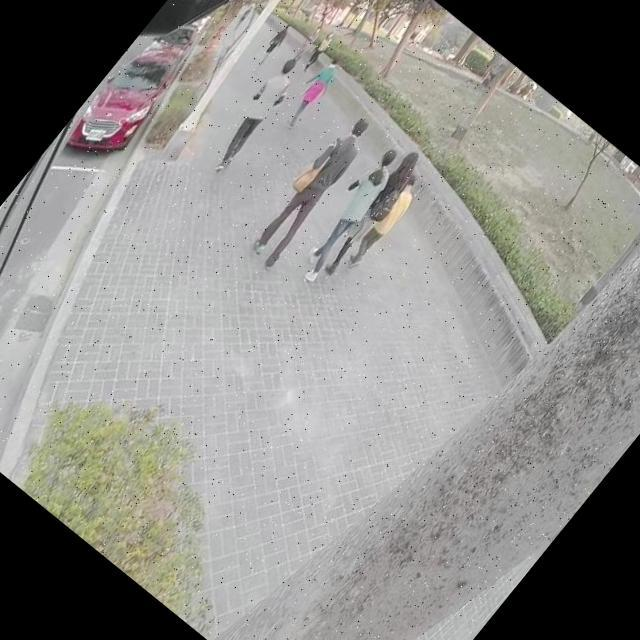person: (241, 106, 386, 272), (294, 143, 412, 280), (321, 150, 434, 279), (201, 57, 309, 181), (341, 172, 431, 276), (276, 54, 348, 136), (286, 22, 327, 68), (300, 29, 338, 72), (257, 24, 293, 66)
